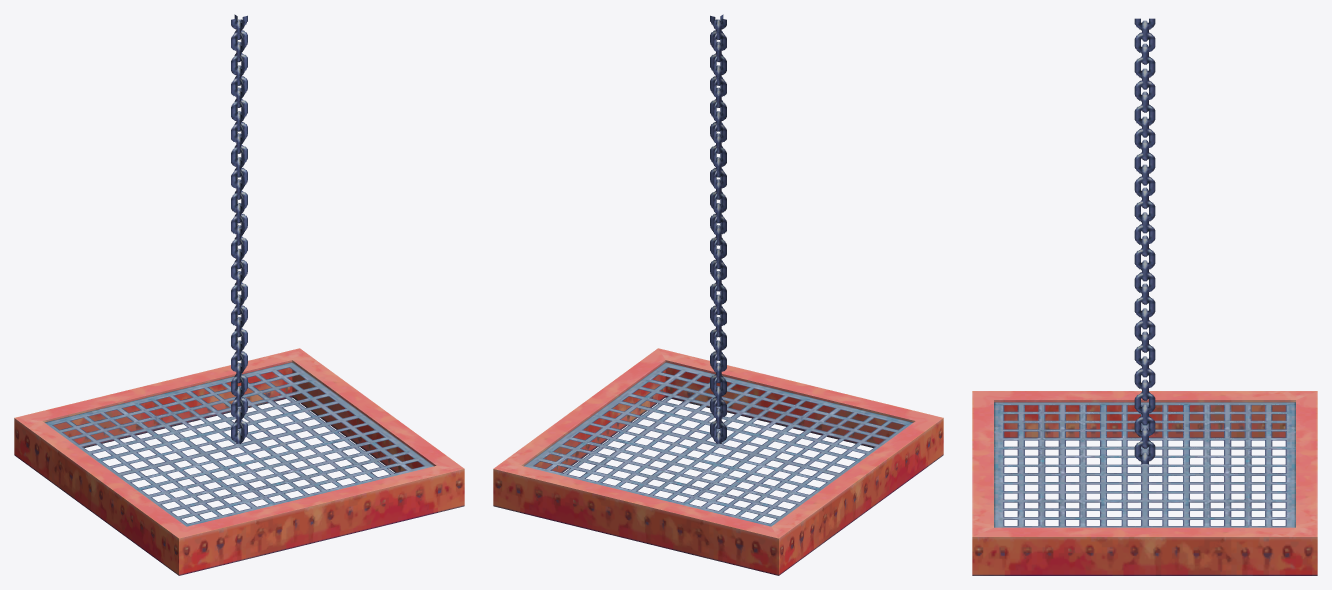
File: cranecargoupdown.dae
3 views of the same model, side by side, from view 1: azimuth 30°, elevation 25°; view 2: azimuth 150°, elevation 25°; view 3: azimuth 270°, elevation 25° (orthographic). The views are drawn at different scales.
Visible parts, largest first — view 1: n0b0; view 2: n0b0; view 3: n0b0.
Part boxes in pixels (bbox=[...]): n0b0: bbox=[14, 14, 464, 575]; n0b0: bbox=[493, 14, 943, 575]; n0b0: bbox=[972, 18, 1317, 575].
Size of the model in its own units: 800 by 1239 by 800.
Materials: 1 (1 with a texture image).
